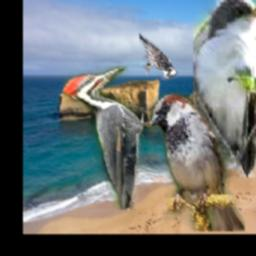Cuckoo: (193, 0, 256, 179)
Sparrow: (149, 94, 244, 232)
Woodpecker: (62, 66, 142, 210), (138, 33, 177, 80)
